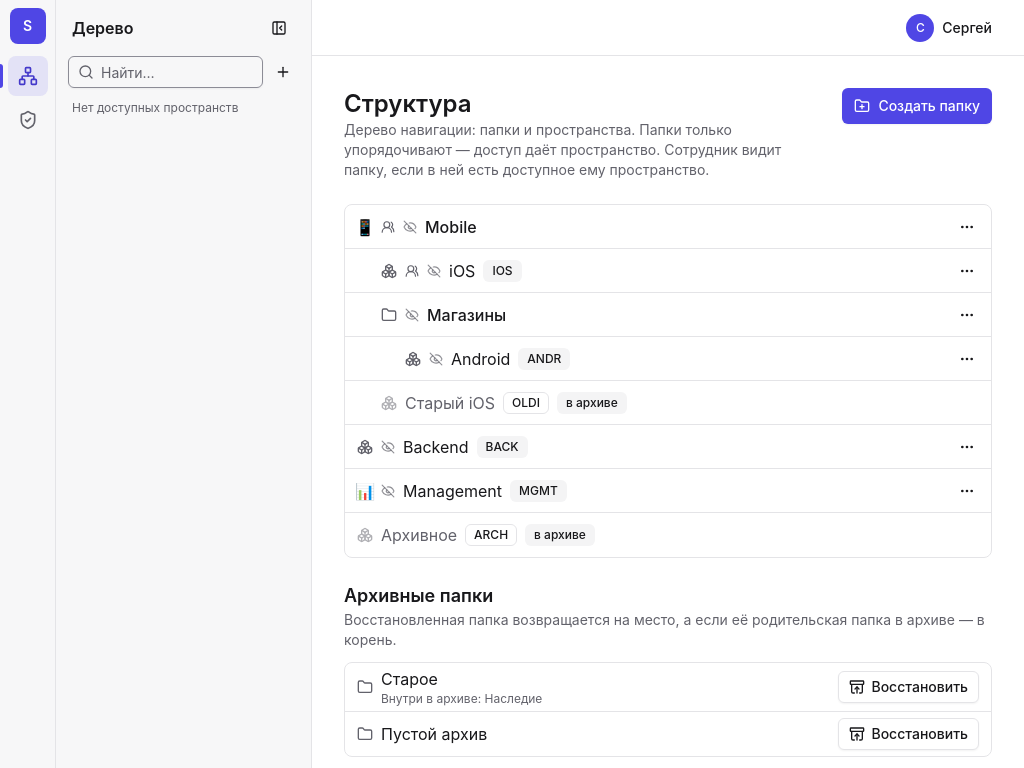
Test case: Админка: «Структура» › папка переименовывается с иконкой; неверная иконка — ошибка под полем
Click the button named "Действия с «Mobile»" at point(967, 226), box [951,210,983,242]
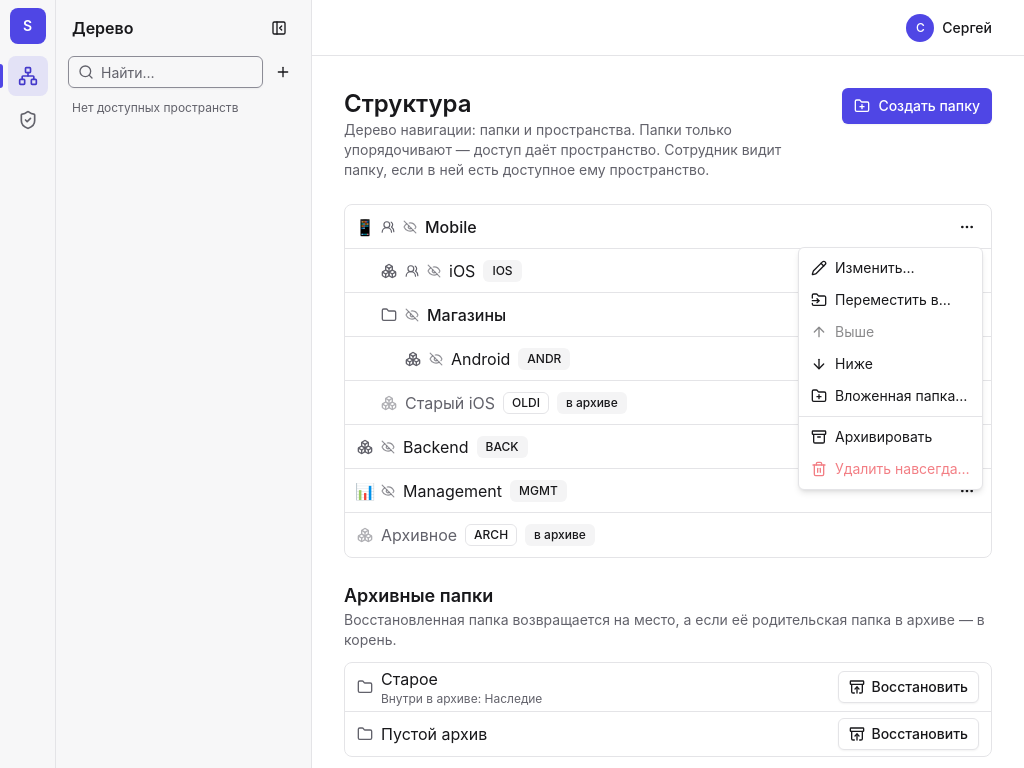
Click the menu item "Изменить…" at point(863, 268), box [811,259,915,276]
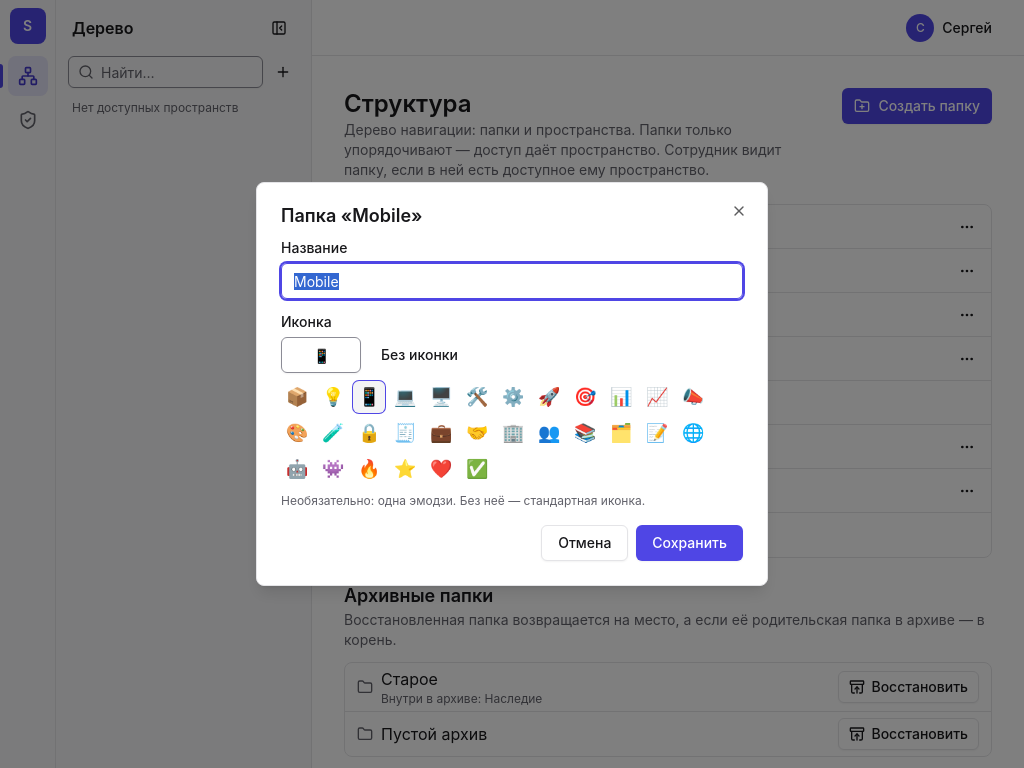
Expected: the field labelled "Название" holds "Mobile"
Expected: the field labelled "Иконка" holds "📱", [281,337,361,373]
Replace the text in the field labelled "Название" with "Мобильные" at point(512, 281), box [281,263,743,299]
Replace the text in the field labelled "Иконка" with "ab" at point(321, 355), box [281,337,361,373]
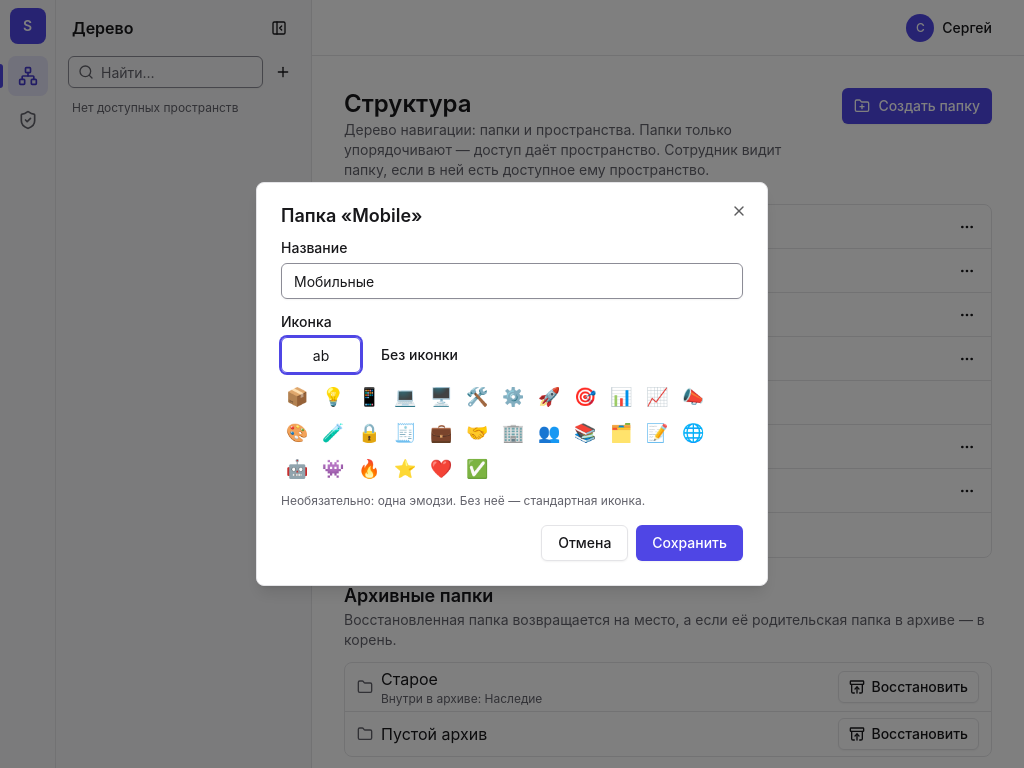
Click the button "Сохранить" at point(690, 543), box [636,525,743,561]
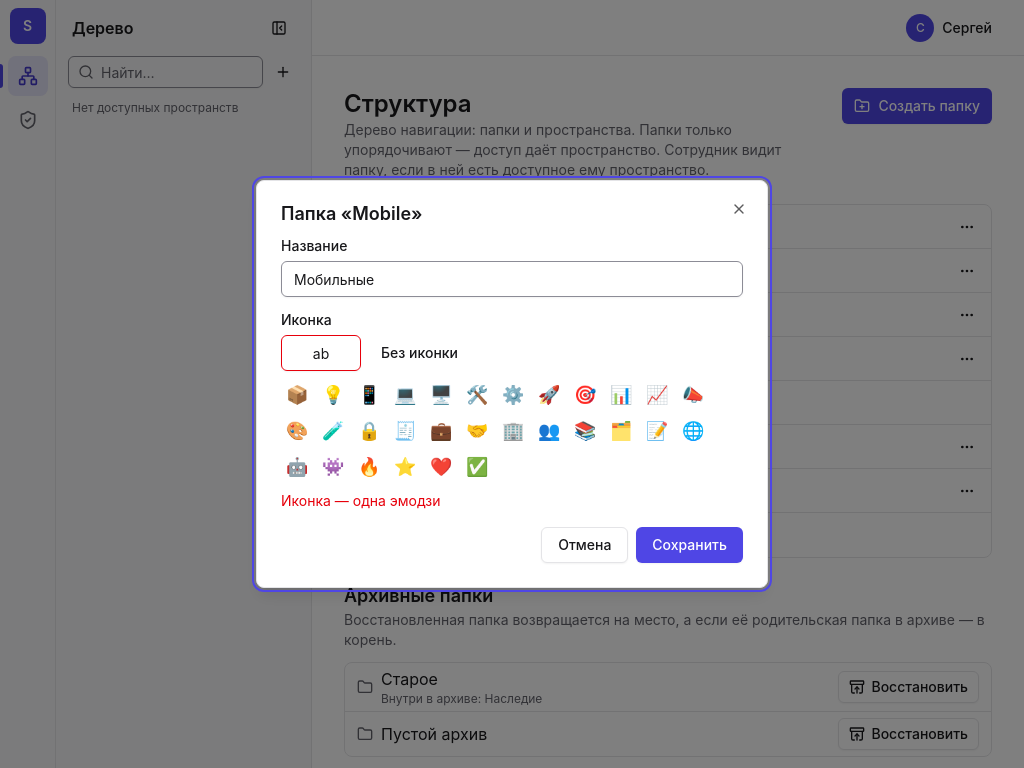
Expected: the text "Иконка — одна эмодзи" is shown, [281,492,440,509]
Click the button "Без иконки" at point(420, 353), box [369,337,470,369]
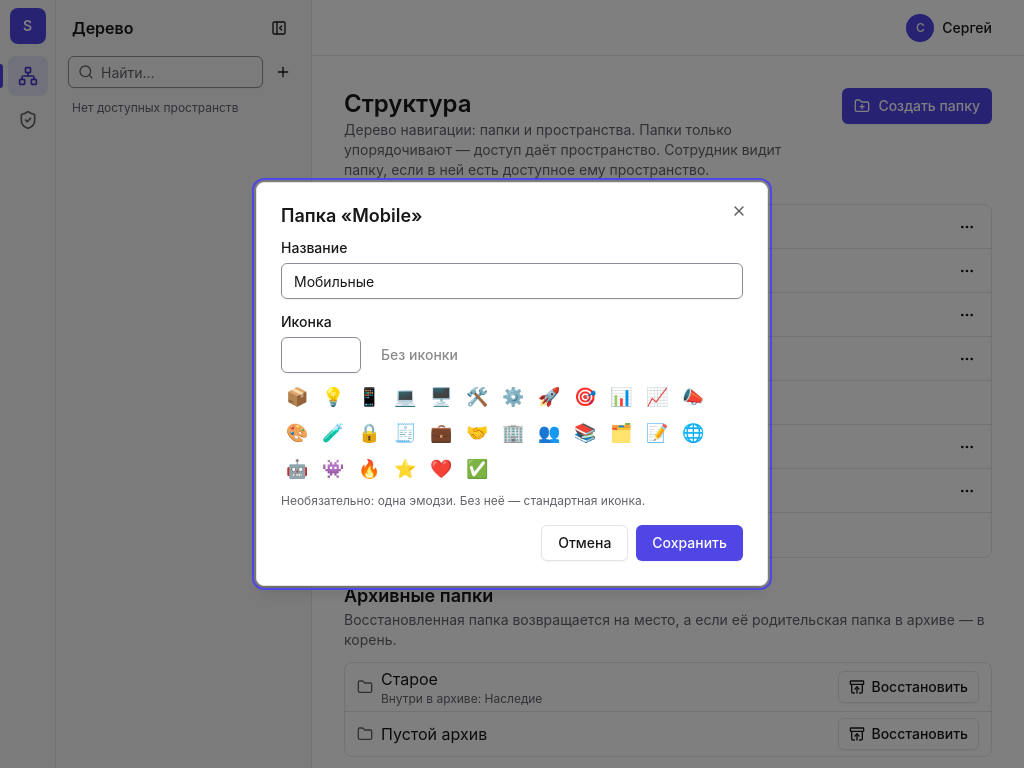
Click the button "Сохранить" at point(690, 543), box [636,525,743,561]
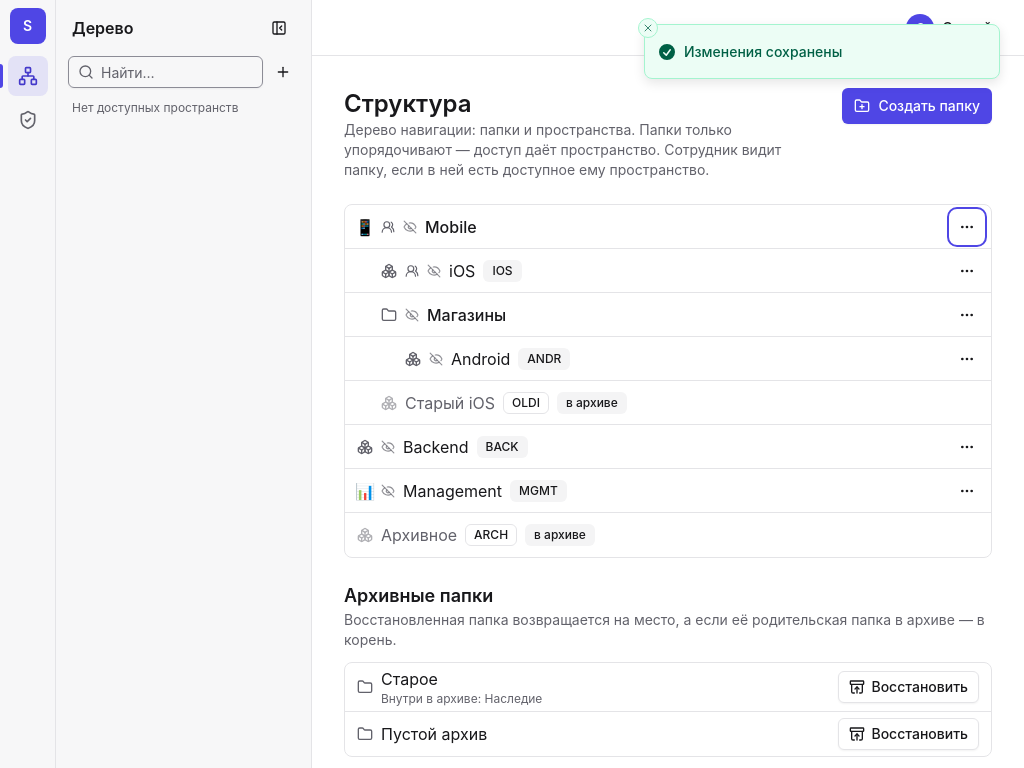
Expected: the text "Изменения сохранены" is shown, [684,41,842,62]
